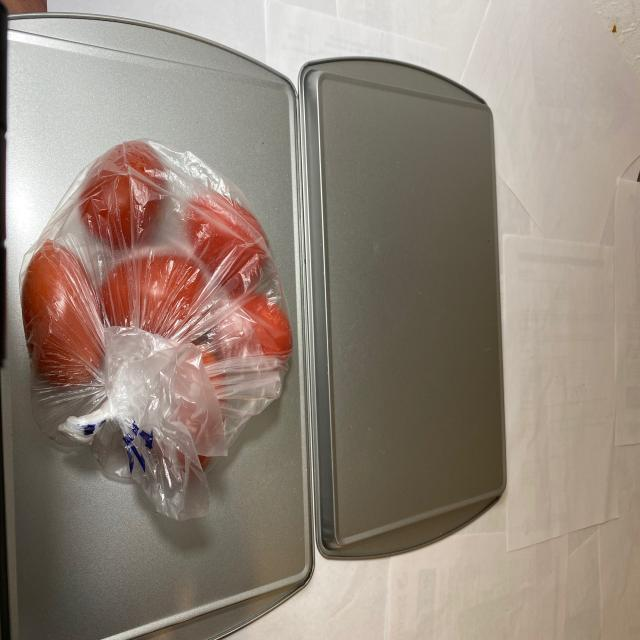tomato: (28, 148, 296, 483)
